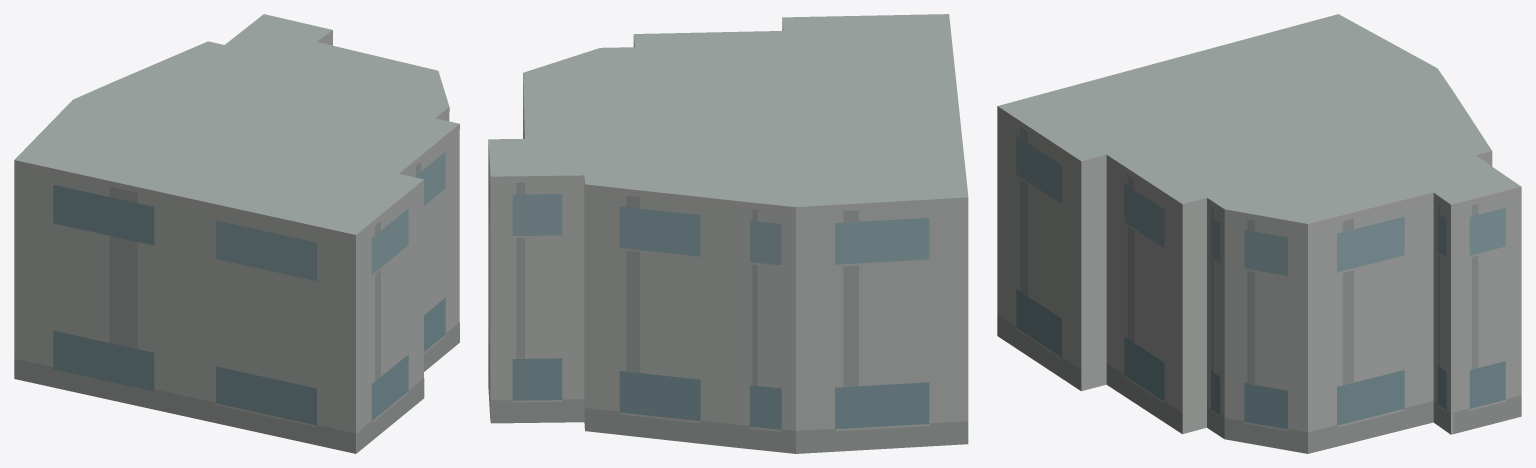
Rendered from residential-7ab6d141-8f2e-49ae-aeb1-9ddd254db82f.glb.
The picture shows the model from 3 angles, left to right: view 1: azimuth 30°, elevation 25°; view 2: azimuth 150°, elevation 25°; view 3: azimuth 270°, elevation 25°; orthographic projection. The views are drawn at different scales.
Parts seen in each view (by area): view 1: residential-7ab6d141-8f2e-49ae-aeb1-9ddd254db82f.tmp; view 2: residential-7ab6d141-8f2e-49ae-aeb1-9ddd254db82f.tmp; view 3: residential-7ab6d141-8f2e-49ae-aeb1-9ddd254db82f.tmp.
Boxes of the visible parts, x1,y1,x2,y2 form: residential-7ab6d141-8f2e-49ae-aeb1-9ddd254db82f.tmp: [14, 14, 459, 453]; residential-7ab6d141-8f2e-49ae-aeb1-9ddd254db82f.tmp: [488, 14, 968, 453]; residential-7ab6d141-8f2e-49ae-aeb1-9ddd254db82f.tmp: [997, 14, 1521, 453].
Size of the model in its own units: 17.93 by 9.15 by 18.91.
